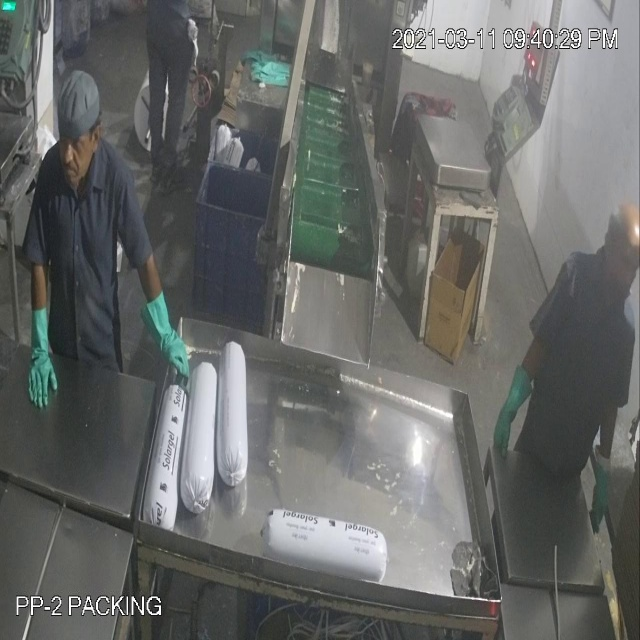Guantes: (140, 269, 201, 388), (489, 359, 536, 465), (22, 303, 58, 414), (581, 441, 612, 538)
